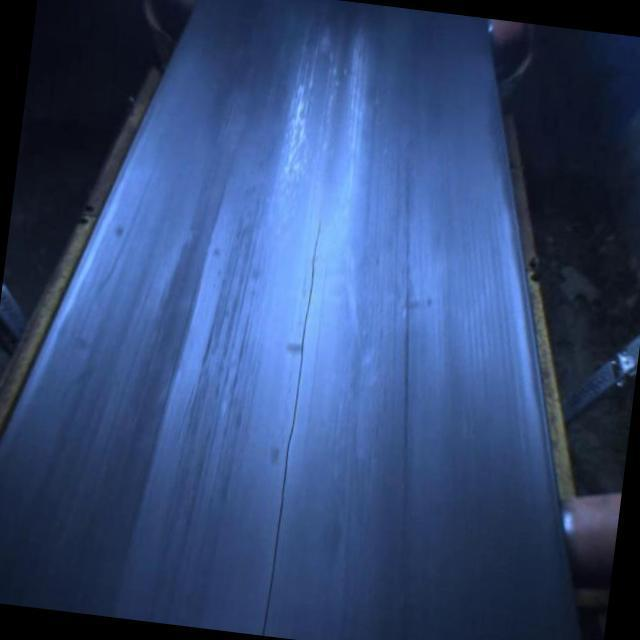Tear: (258, 212, 327, 640)
